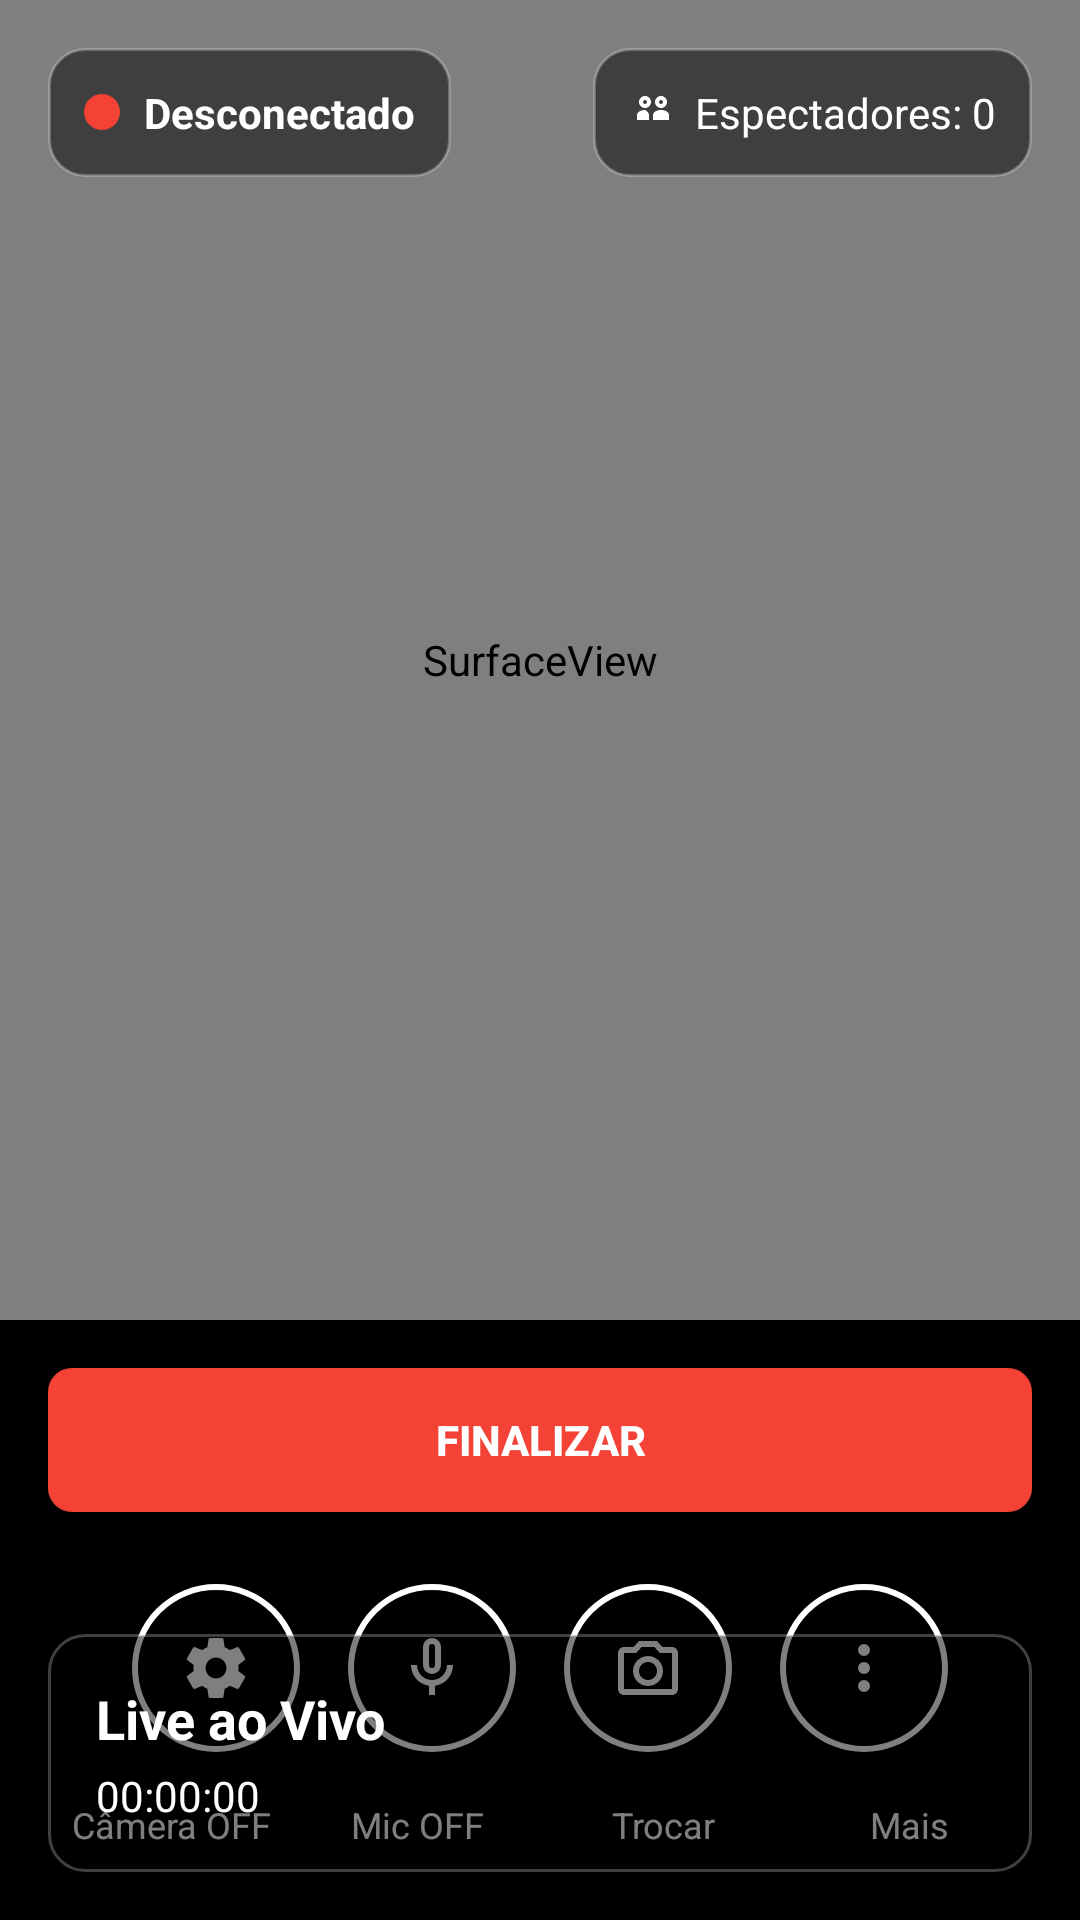

Icon click points for this 1080w x 1920h phone screenshot, format point (x, y):
more: point (864, 1668)
switch camera: point (648, 1668)
viewers: point (653, 108)
